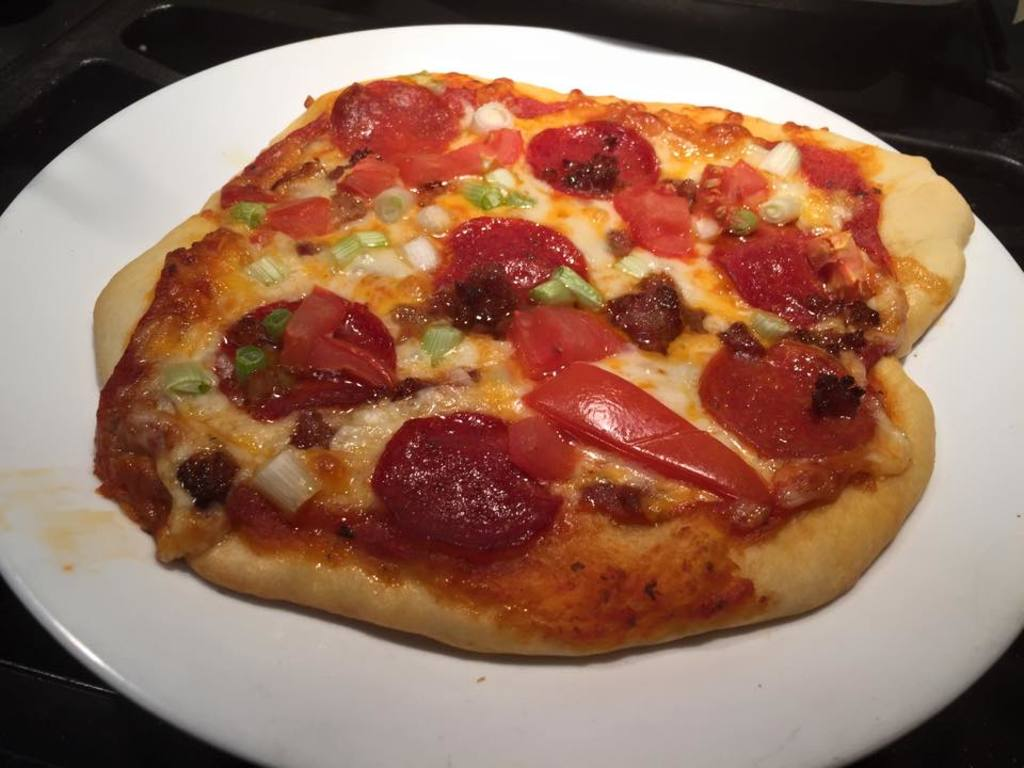Pizza: (56, 86, 973, 670)
